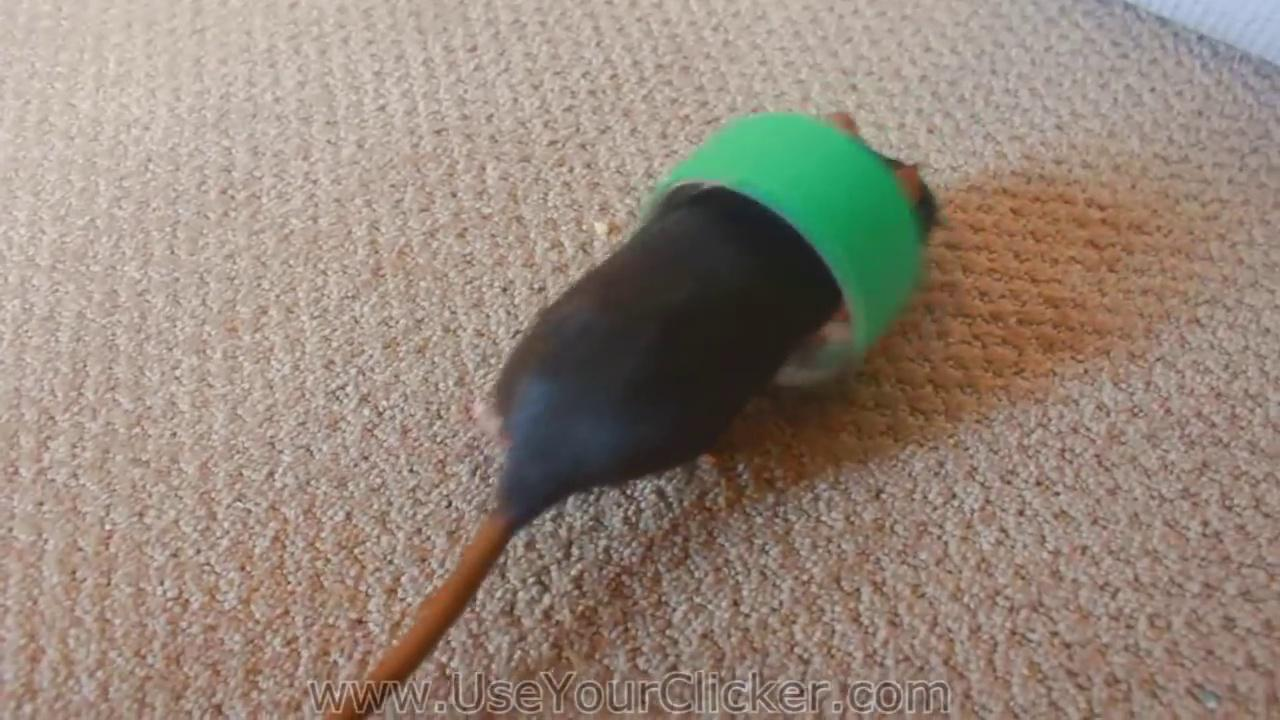rat: (325, 143, 939, 720)
